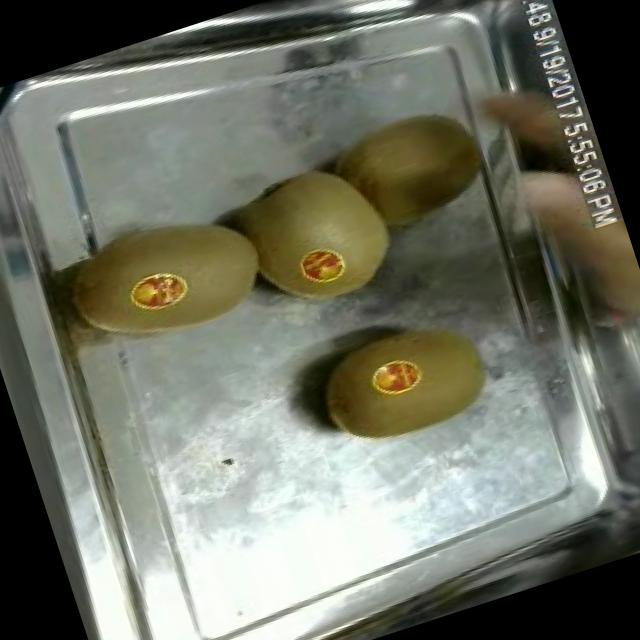Fruit: (42, 178, 288, 376), (220, 137, 418, 329), (294, 296, 508, 472), (482, 131, 640, 366), (305, 86, 498, 259)
